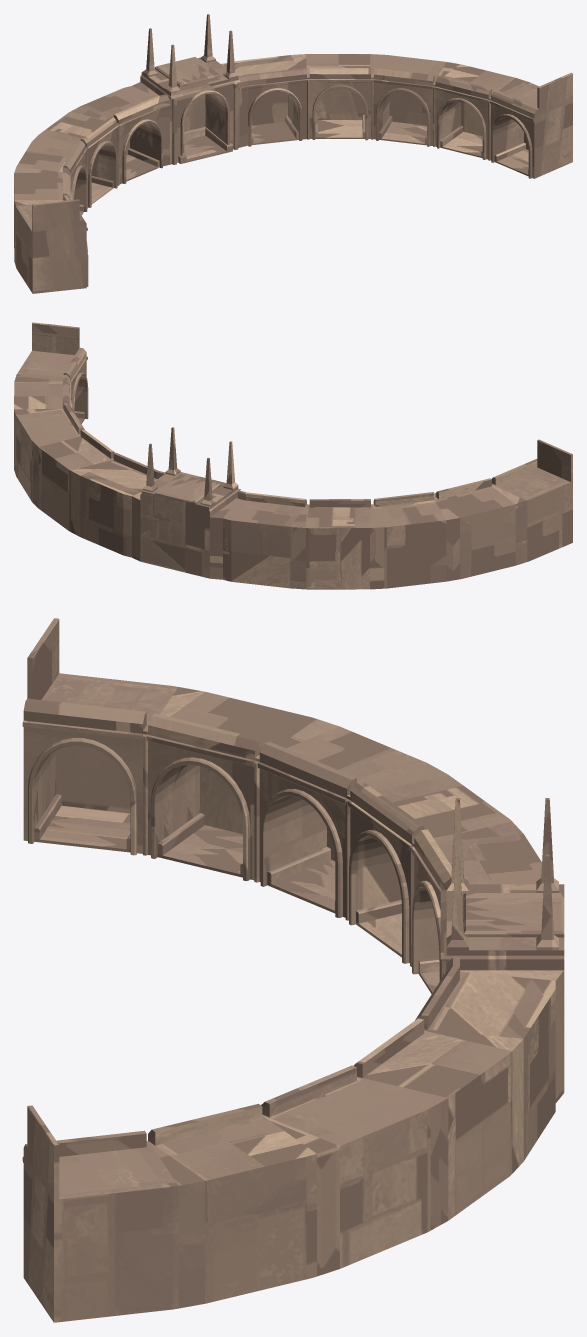
File: stadium.obj
3 renders of one model, top to bottom at view 1: azimuth 30°, elevation 25°; view 2: azimuth 150°, elevation 25°; view 3: azimuth 270°, elevation 25°, orthographic. The views are drawn at different scales.
Visible parts, largest first — view 1: stadium_Plane.045_None; view 2: stadium_Plane.045_None; view 3: stadium_Plane.045_None.
Boxes of the visible parts, x1,y1,x2,y2 form: stadium_Plane.045_None: [14, 14, 572, 293]; stadium_Plane.045_None: [14, 322, 572, 589]; stadium_Plane.045_None: [22, 618, 564, 1322].
Size of the model in its own units: 20.72 by 4.25 by 8.99.
